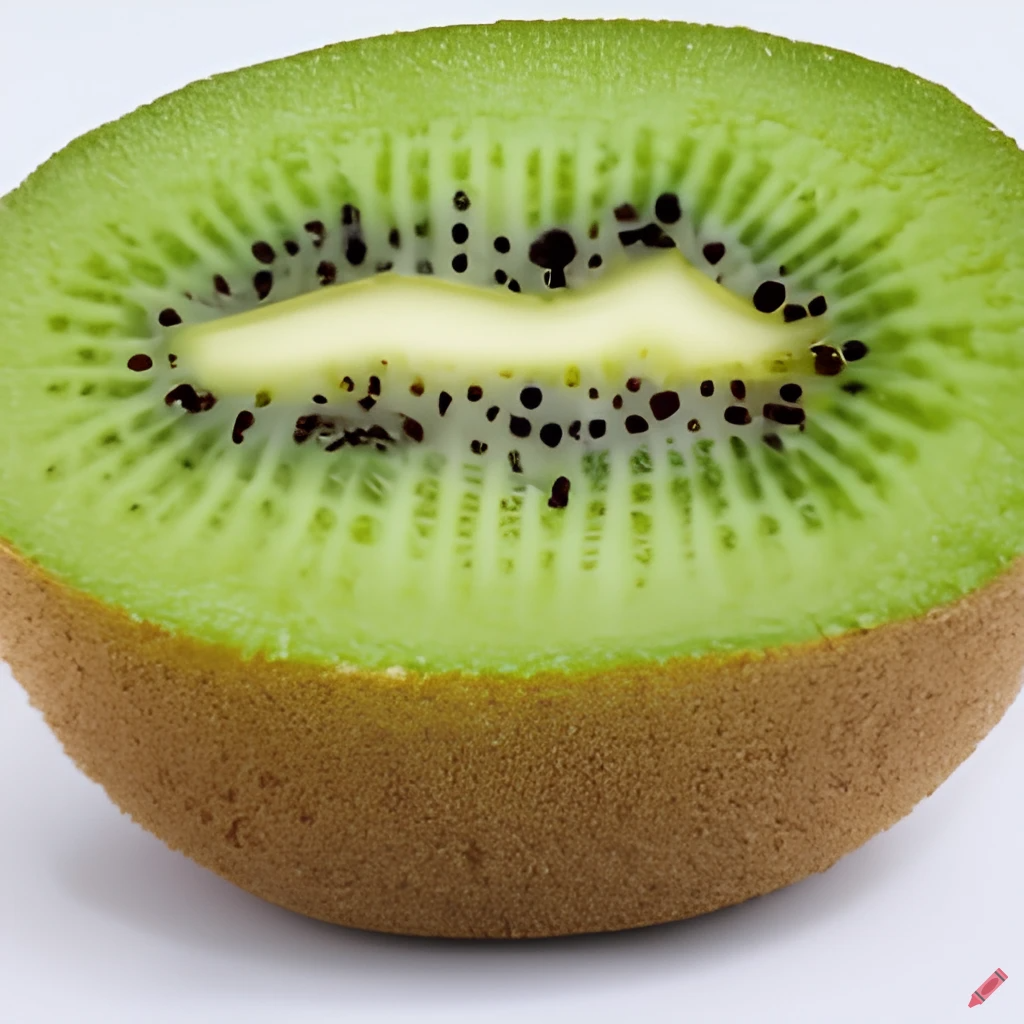Kiwi: (0, 21, 1024, 935)
